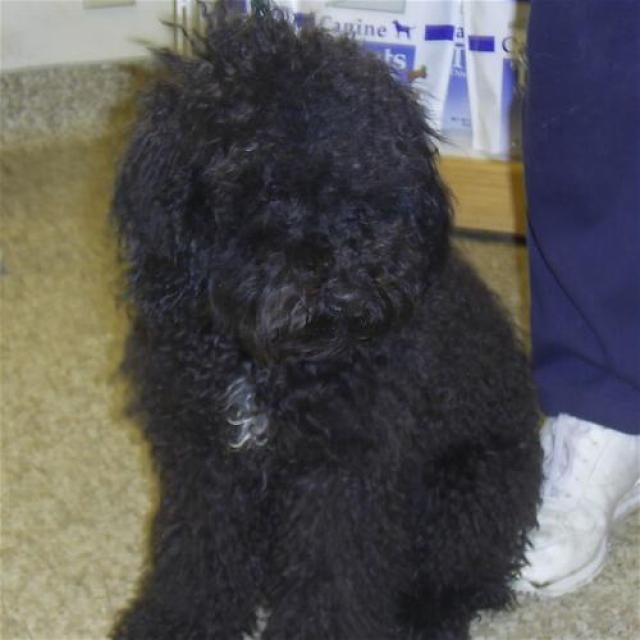Dogs: (99, 0, 545, 639)
